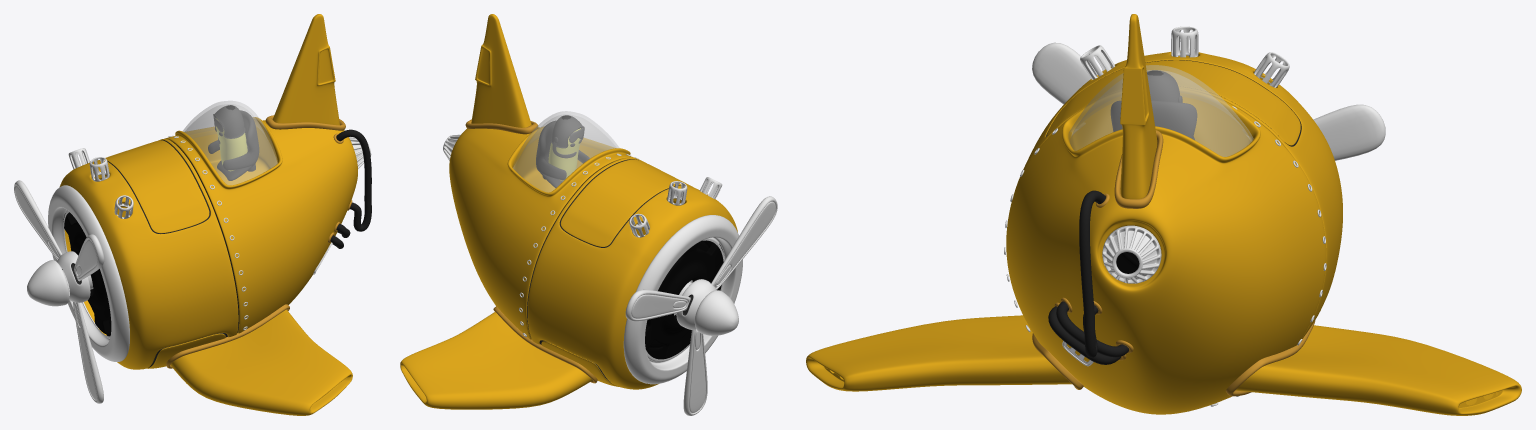
The model's file is air.glb.
The picture shows the model from 3 angles, left to right: view 1: azimuth 30°, elevation 25°; view 2: azimuth 150°, elevation 25°; view 3: azimuth 270°, elevation 25°; orthographic projection. The views are drawn at different scales.
Visible parts, largest first — view 1: Cylinder_0, Circle.003_7, Cylinder.003_4, Cylinder.006_24, Circle_3, Plane.001_11, Circle.004_8, Plane.006_31, BezierCurve.005_36, Circle.002_6, Cube.001_25, Cylinder.002_2 (+3 smaller); view 2: Cylinder_0, Circle.003_7, Cylinder.003_4, Circle_3, Cylinder.006_24, Plane.001_11, Circle.004_8, Plane.006_31, Cube_30, Cylinder.002_2, Circle.002_6, Cube.001_25 (+3 smaller); view 3: Cylinder_0, Circle.003_7, Cylinder.006_24, Cylinder.003_4, Plane.001_11, Circle.001_5, BezierCurve.005_36, Plane.006_31, Cylinder.002_2, Circle.002_6, Plane.002_12, BezierCurve.004_35 (+3 smaller).
Part boxes in pixels (box(x1,y1,x2,y2)): Cylinder_0: box(59, 117, 357, 369); Circle.003_7: box(170, 309, 352, 415); Cylinder.003_4: box(14, 180, 104, 403); Cylinder.006_24: box(183, 101, 277, 184); Circle_3: box(48, 185, 129, 361); Plane.001_11: box(272, 14, 339, 125); Circle.004_8: box(63, 212, 110, 333); Plane.006_31: box(208, 110, 259, 180); BezierCurve.005_36: box(336, 129, 371, 231); Circle.002_6: box(166, 304, 289, 368); Cube.001_25: box(213, 105, 245, 138); Cylinder.002_2: box(68, 148, 133, 218); Cylinder_0: box(449, 126, 737, 389); Circle.003_7: box(400, 312, 592, 409); Cylinder.003_4: box(625, 196, 777, 415); Circle_3: box(623, 215, 742, 384); Cylinder.006_24: box(513, 111, 619, 192); Plane.001_11: box(471, 14, 531, 127); Circle.004_8: box(645, 242, 723, 357); Plane.006_31: box(536, 120, 589, 187); Cube_30: box(548, 128, 580, 180); Cylinder.002_2: box(629, 177, 722, 237); Circle.002_6: box(493, 306, 597, 383); Cube.001_25: box(551, 115, 584, 148); Cylinder_0: box(1006, 52, 1342, 414); Circle.003_7: box(806, 315, 1521, 415); Cylinder.006_24: box(1068, 65, 1253, 156); Cylinder.003_4: box(1032, 42, 1385, 160); Plane.001_11: box(1120, 14, 1157, 199); Circle.001_5: box(1102, 225, 1161, 283); BezierCurve.005_36: box(1079, 190, 1105, 357); Plane.006_31: box(1110, 100, 1197, 139); Cylinder.002_2: box(1080, 45, 1289, 87); Circle.002_6: box(1032, 320, 1315, 396); Plane.002_12: box(1114, 130, 1163, 208); BezierCurve.004_35: box(1056, 301, 1129, 357).
Bounding box in the file's own units: 2.5 × 2.6 × 3.26.
